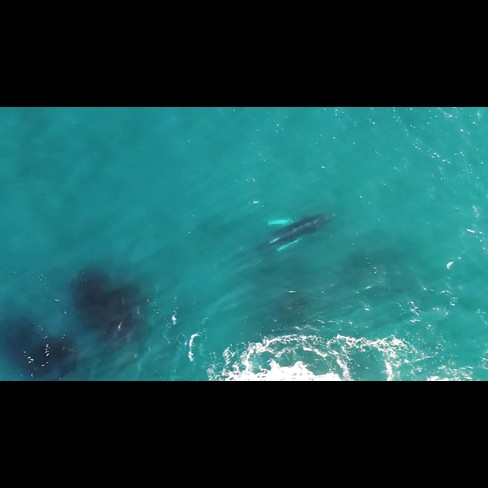hump: (238, 206, 344, 263)
